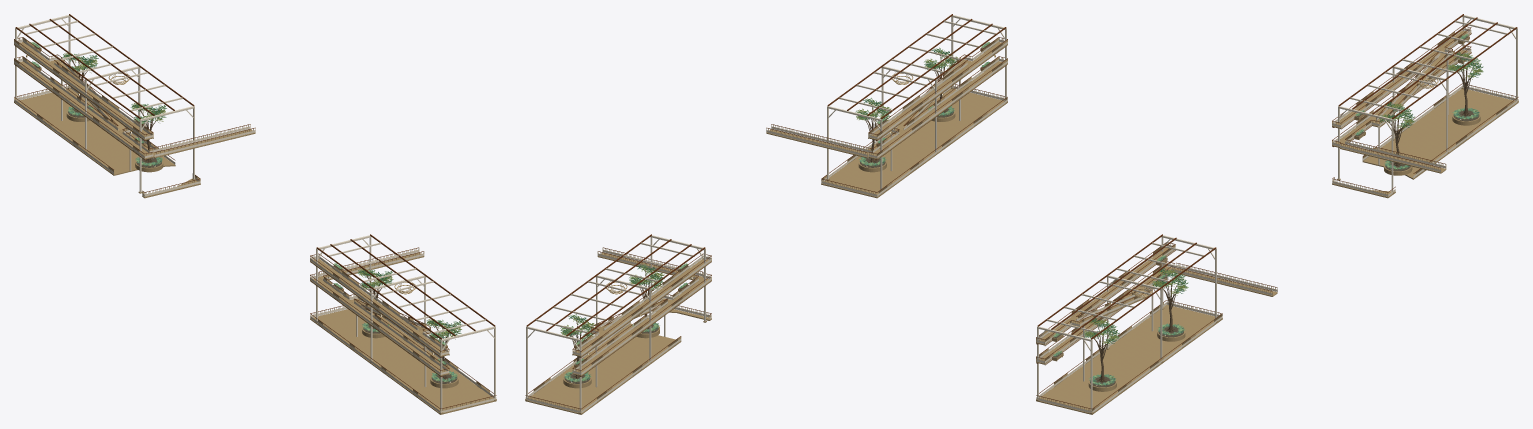
File: NightGardenResortCourts_r002.glb
3 views of the same model, side by side, from view 1: azimuth 30°, elevation 25°; view 2: azimuth 150°, elevation 25°; view 3: azimuth 330°, elevation 25° (orthographic).
Parts seen in each view (by area): view 1: Base_006, Base_007, Base_004, Fore_GuardBalusters, Aft_GuardBalusters, Base_005, Aft_Gallery_93, Aft_Gallery_97.5, Fore_Gallery_93, Fore_Gallery_97.5, Fore_D15_ReceivingBridge; view 2: Base_006, Base_004, Base_007, Aft_GuardBalusters, Fore_GuardBalusters, Base_005, Fore_Gallery_93, Fore_Gallery_97.5, Aft_Gallery_93, Aft_Gallery_97.5, Base_003, Aft_D15_ReceivingBridge; view 3: Base_006, Base_007, Base_004, Aft_GuardBalusters, Fore_GuardBalusters, Base_005, Base_003, Fore_Gallery_97.5, Aft_Gallery_97.5, Aft_Gallery_93, Fore_Gallery_93, Fore_D15_ReceivingBridge (+1 smaller).
Boxes of the visible parts, left/top/right/bottom form: Base_006: left=310, top=309, right=440, bottom=414; Base_007: left=372, top=313, right=496, bottom=414; Base_004: left=18, top=89, right=137, bottom=161; Fore_GuardBalusters: left=14, top=37, right=255, bottom=196; Aft_GuardBalusters: left=310, top=248, right=493, bottom=410; Base_005: left=14, top=102, right=137, bottom=175; Aft_Gallery_93: left=310, top=277, right=449, bottom=376; Aft_Gallery_97.5: left=310, top=259, right=449, bottom=356; Fore_Gallery_93: left=14, top=61, right=153, bottom=159; Fore_Gallery_97.5: left=14, top=42, right=153, bottom=140; Fore_D15_ReceivingBridge: left=150, top=129, right=255, bottom=158; Base_006: left=821, top=102, right=1007, bottom=198; Base_004: left=525, top=337, right=643, bottom=414; Base_007: left=824, top=89, right=1003, bottom=181; Aft_GuardBalusters: left=766, top=37, right=1007, bottom=195; Fore_GuardBalusters: left=528, top=248, right=711, bottom=410; Base_005: left=581, top=335, right=681, bottom=414; Fore_Gallery_93: left=572, top=277, right=711, bottom=376; Fore_Gallery_97.5: left=572, top=259, right=711, bottom=356; Aft_Gallery_93: left=868, top=61, right=1007, bottom=159; Aft_Gallery_97.5: left=868, top=42, right=1007, bottom=140; Base_003: left=528, top=323, right=639, bottom=398; Aft_D15_ReceivingBridge: left=766, top=129, right=871, bottom=158; Base_006: left=1039, top=304, right=1214, bottom=398; Base_007: left=1036, top=318, right=1222, bottom=414; Base_004: left=1406, top=89, right=1514, bottom=160; Aft_GuardBalusters: left=1036, top=243, right=1277, bottom=412; Fore_GuardBalusters: left=1332, top=27, right=1515, bottom=196; Base_005: left=1362, top=89, right=1461, bottom=167; Base_003: left=1405, top=102, right=1518, bottom=179; Fore_Gallery_97.5: left=1332, top=30, right=1471, bottom=128; Aft_Gallery_97.5: left=1036, top=247, right=1174, bottom=345; Aft_Gallery_93: left=1036, top=266, right=1174, bottom=364; Fore_Gallery_93: left=1332, top=50, right=1470, bottom=147; Fore_D15_ReceivingBridge: left=1340, top=144, right=1446, bottom=173.
Size of the model in its own units: 26.95 by 17.69 by 181.
Materials: 24 (18 with a texture image).
